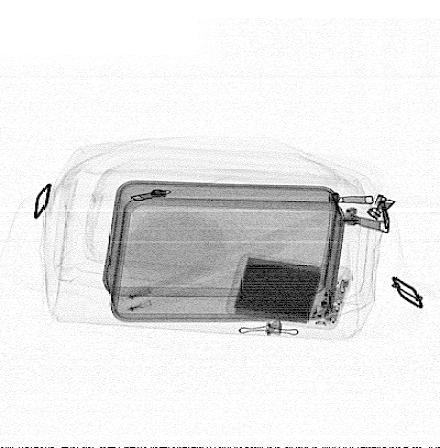Powerbank: (224, 252, 354, 331)
